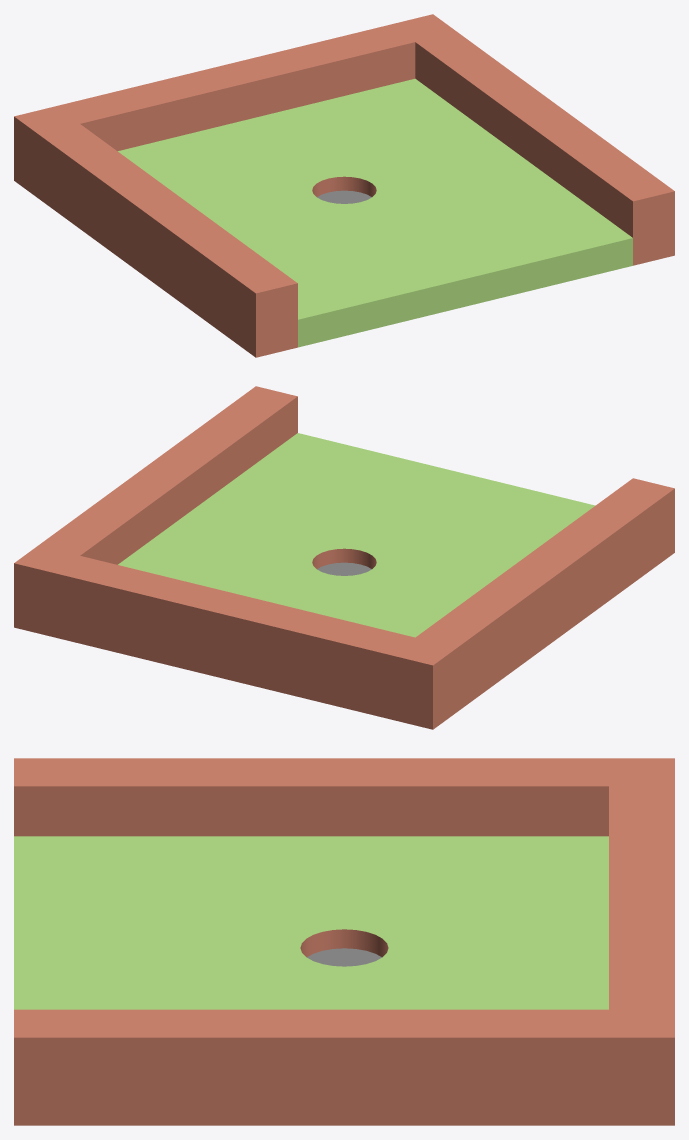
The model's file is Hole_square_01.glb.
3 renders of one model, top to bottom at view 1: azimuth 30°, elevation 25°; view 2: azimuth 150°, elevation 25°; view 3: azimuth 270°, elevation 25°, orthographic. The views are drawn at different scales.
Visible parts, largest first — view 1: Mesh1 Hole_square Model; view 2: Mesh1 Hole_square Model; view 3: Mesh1 Hole_square Model.
Part boxes in pixels (bbox=[...]): Mesh1 Hole_square Model: bbox=[14, 14, 674, 357]; Mesh1 Hole_square Model: bbox=[14, 386, 674, 729]; Mesh1 Hole_square Model: bbox=[14, 758, 674, 1125].
Bounding box in the file's own units: 3 × 0.44 × 3.
